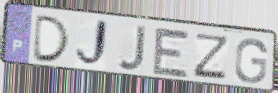D: (31, 14, 72, 64)
E: (151, 25, 192, 80)
G: (232, 37, 269, 85)
J: (73, 18, 110, 70), (116, 25, 148, 73)
Z: (191, 32, 232, 81)
